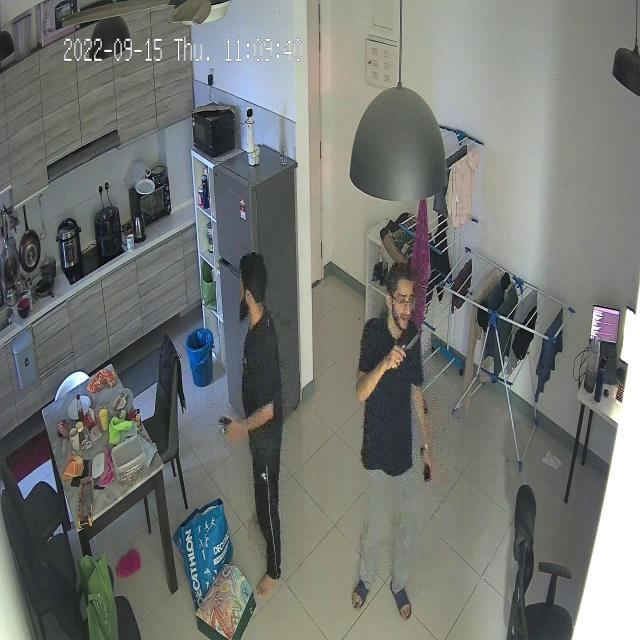Knife: (398, 326, 434, 356)
